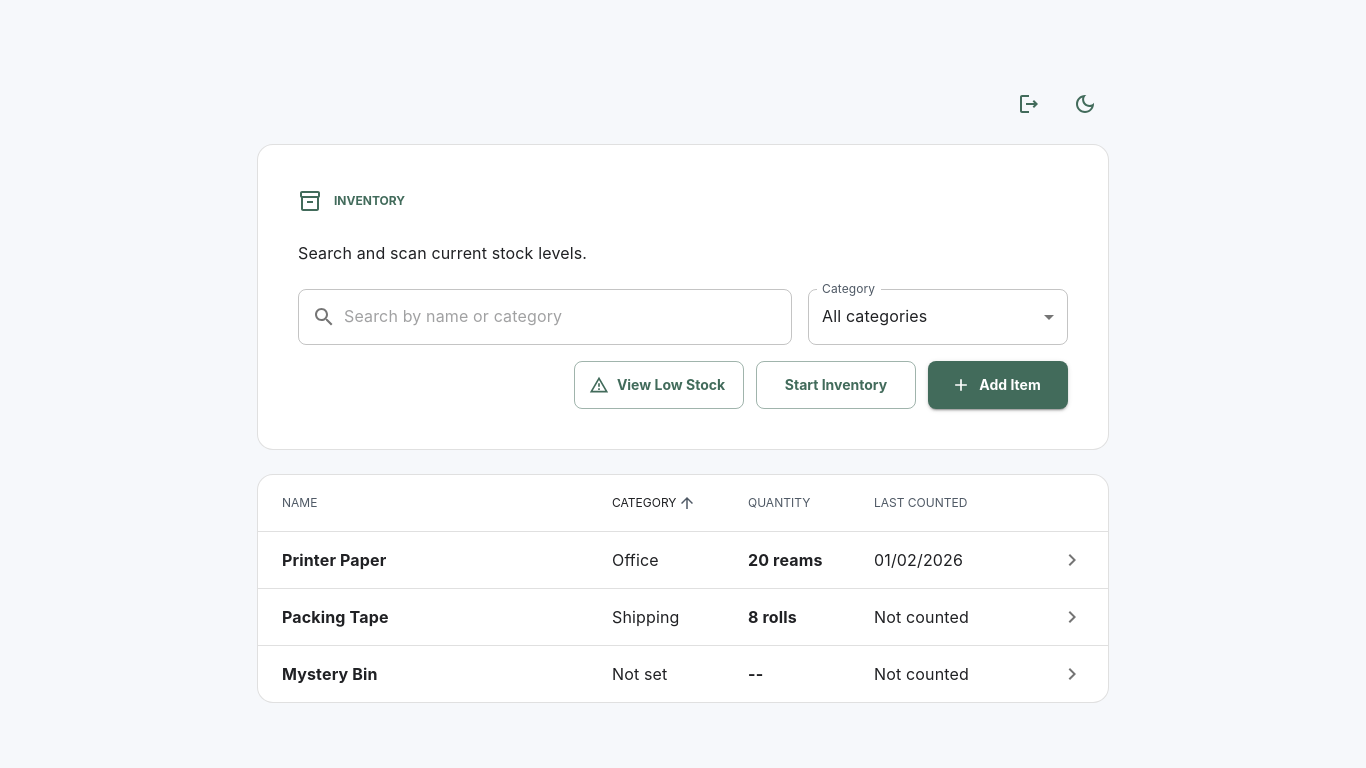
Test case: HomePage › opens an add item modal from the inventory page
The width and height of the screenshot is (1366, 768).
Expected: the text "Printer Paper" is shown, [282,550,386,570]
Click the button "Add Item".
click(998, 385)  # box [928,361,1068,409]
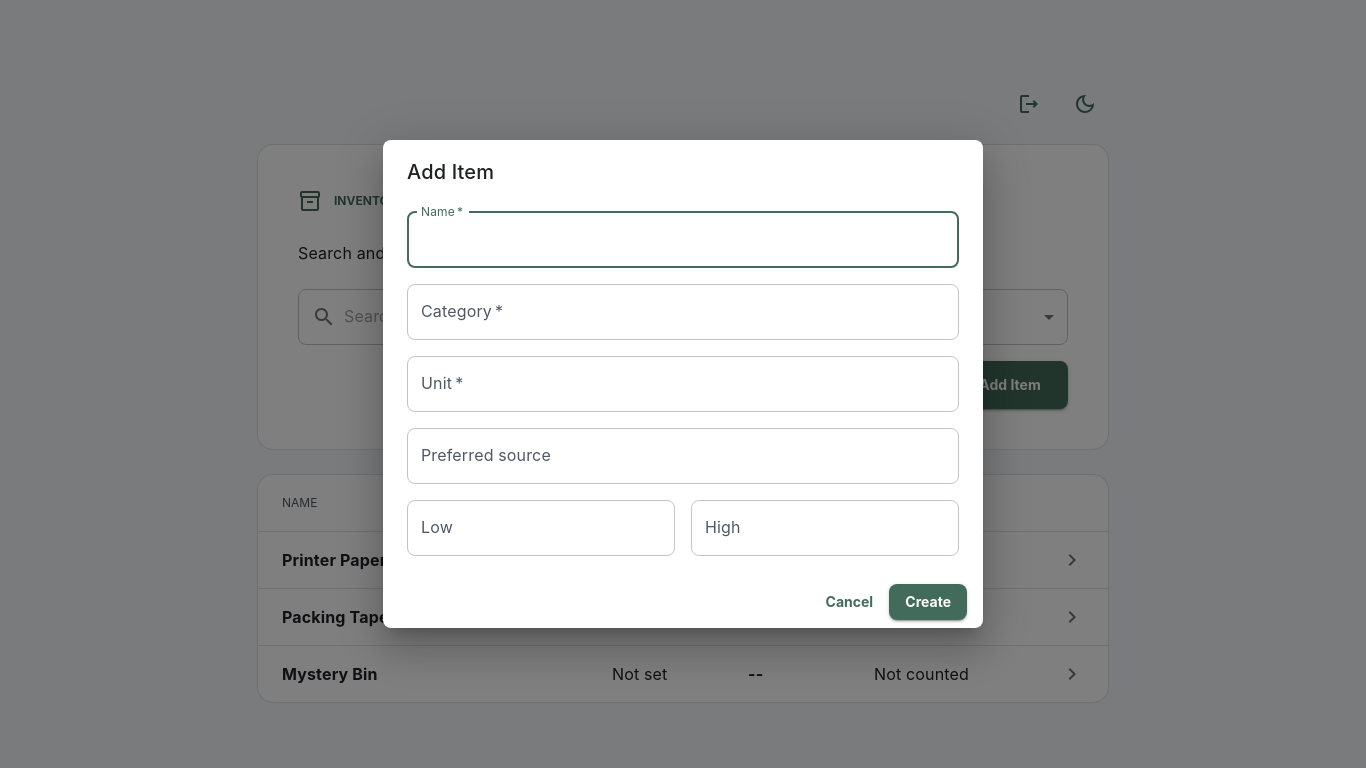
Result: the field labelled "Name *" is shown at [407,212,959,268]
Result: the field labelled "Category *" is shown at [407,284,959,340]
Result: the field labelled "Unit *" is shown at [407,356,959,412]
